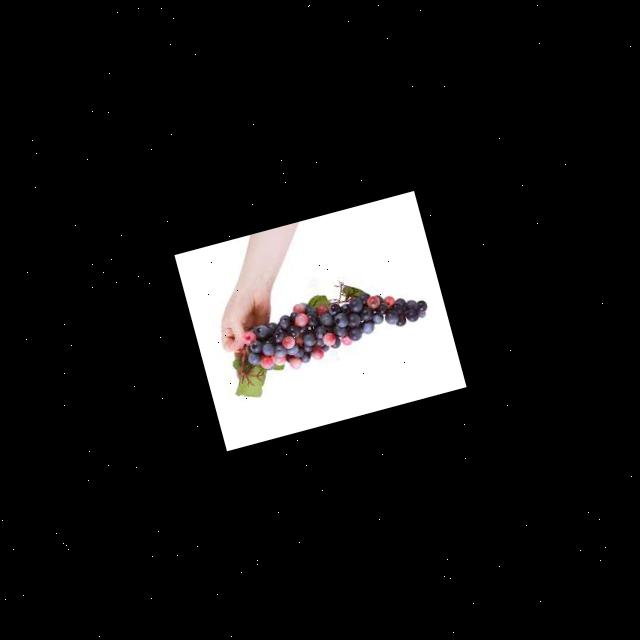grape: (234, 268, 434, 380)
